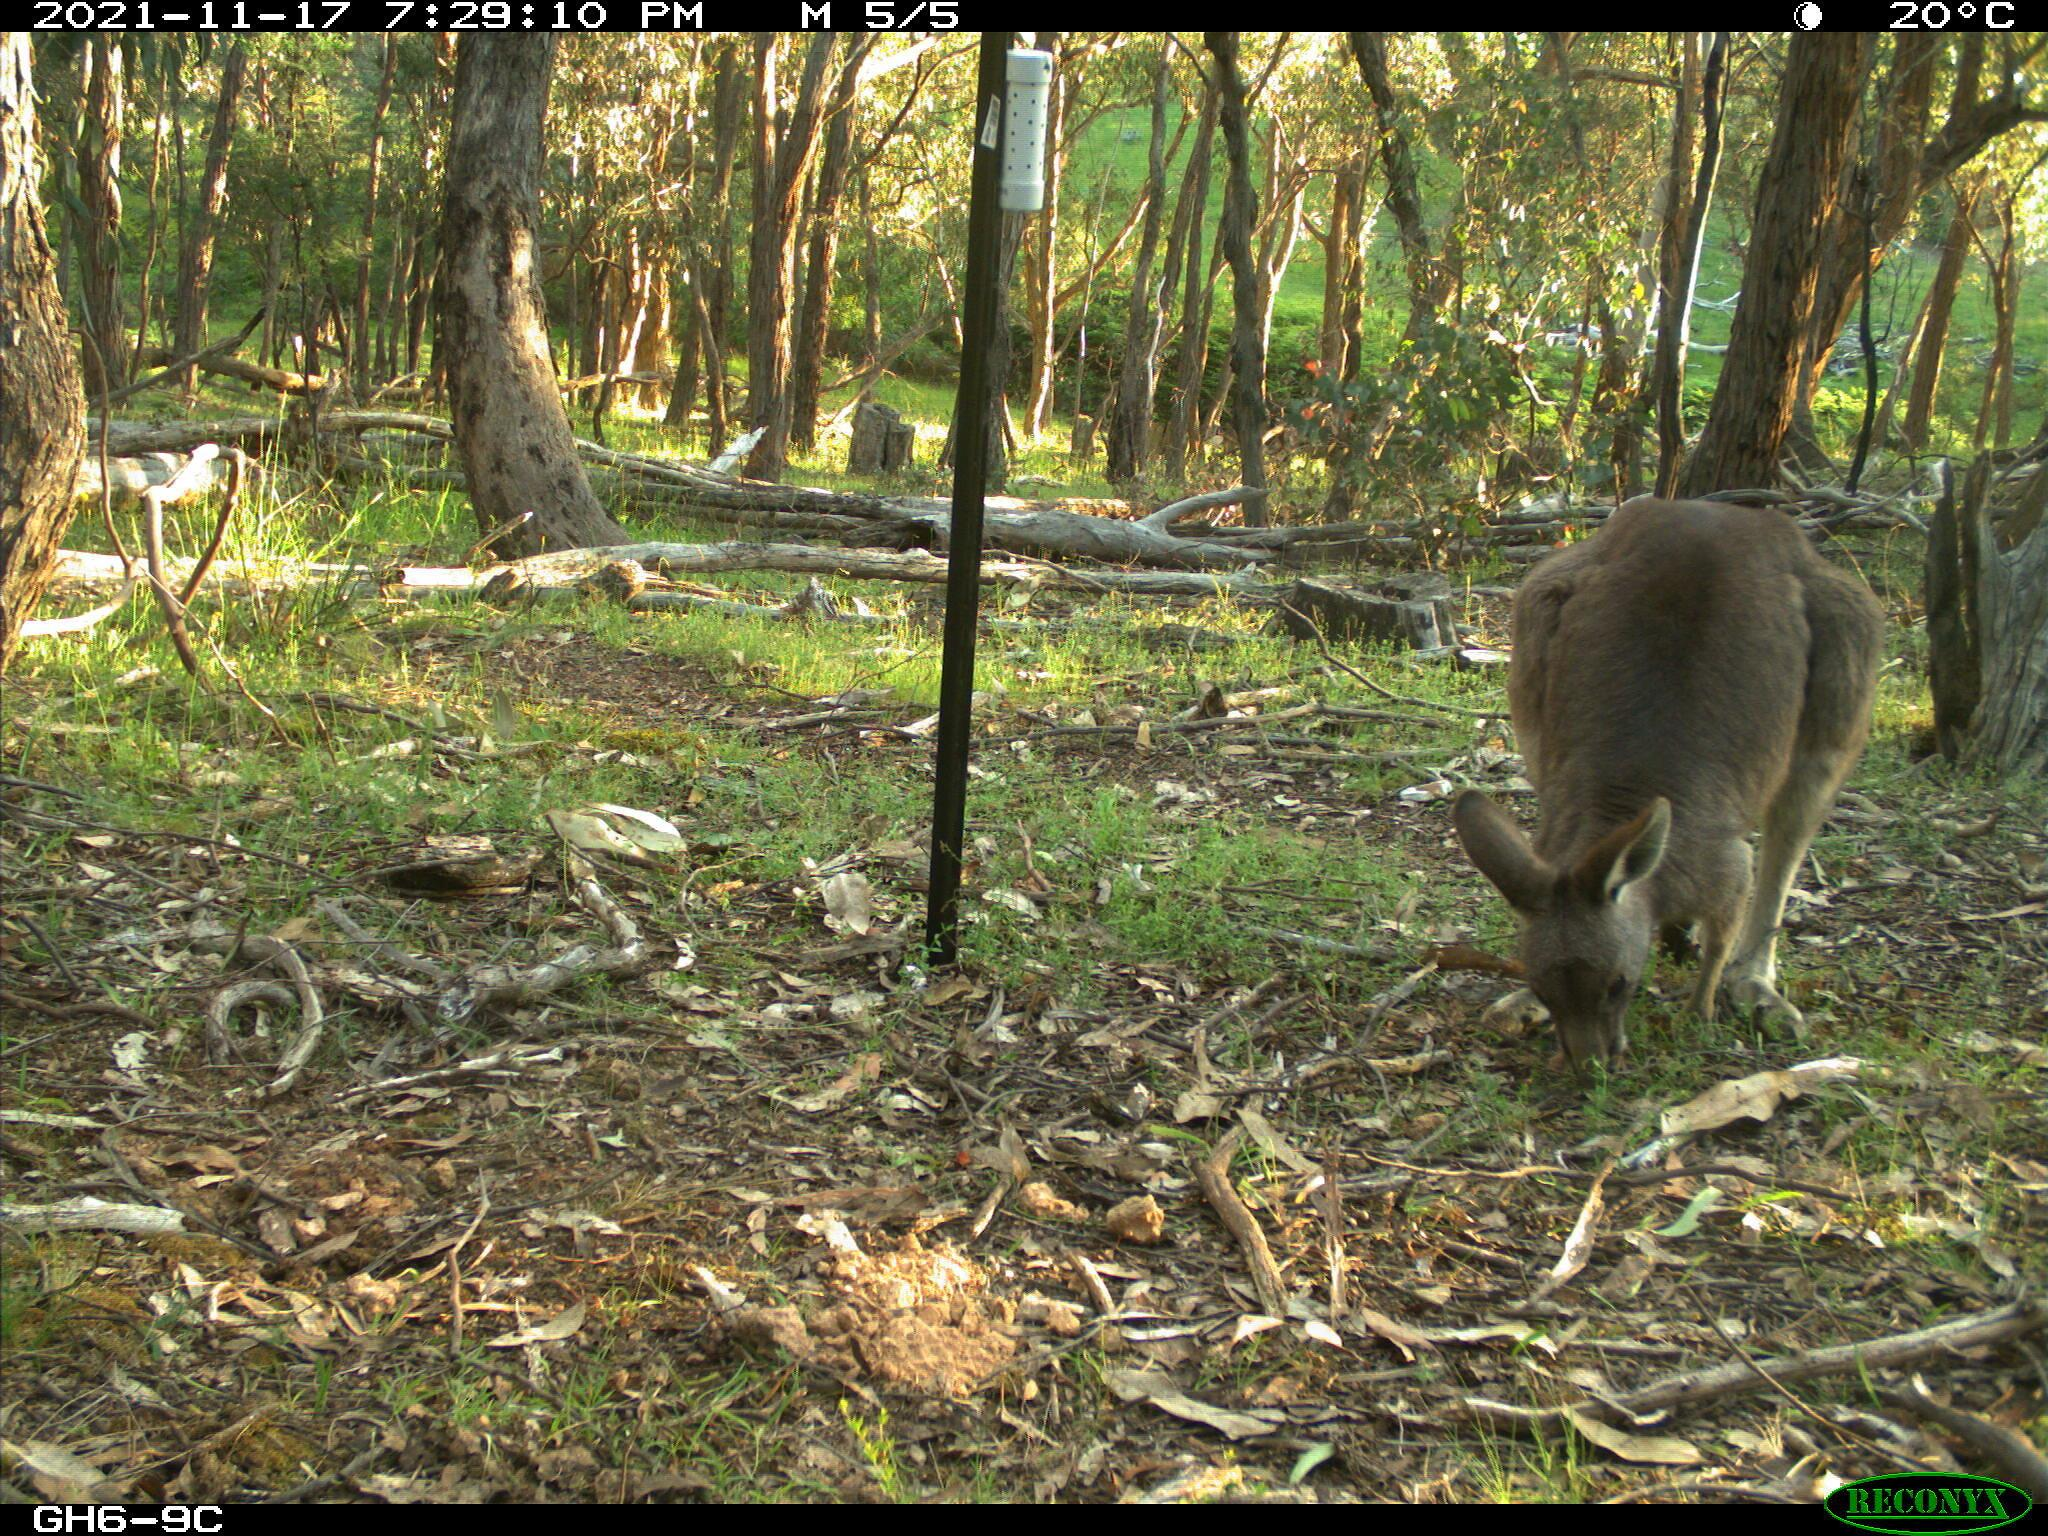Eastern grey kangaroo: (1442, 494, 1895, 1084)
